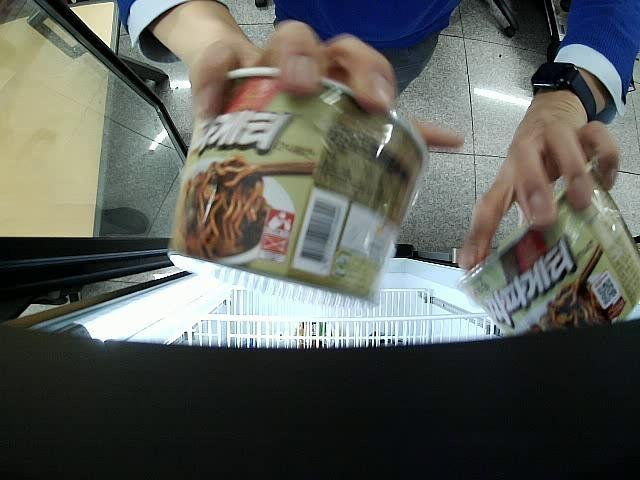03_chapagetti_L: (170, 68, 432, 306), (457, 162, 638, 335)
